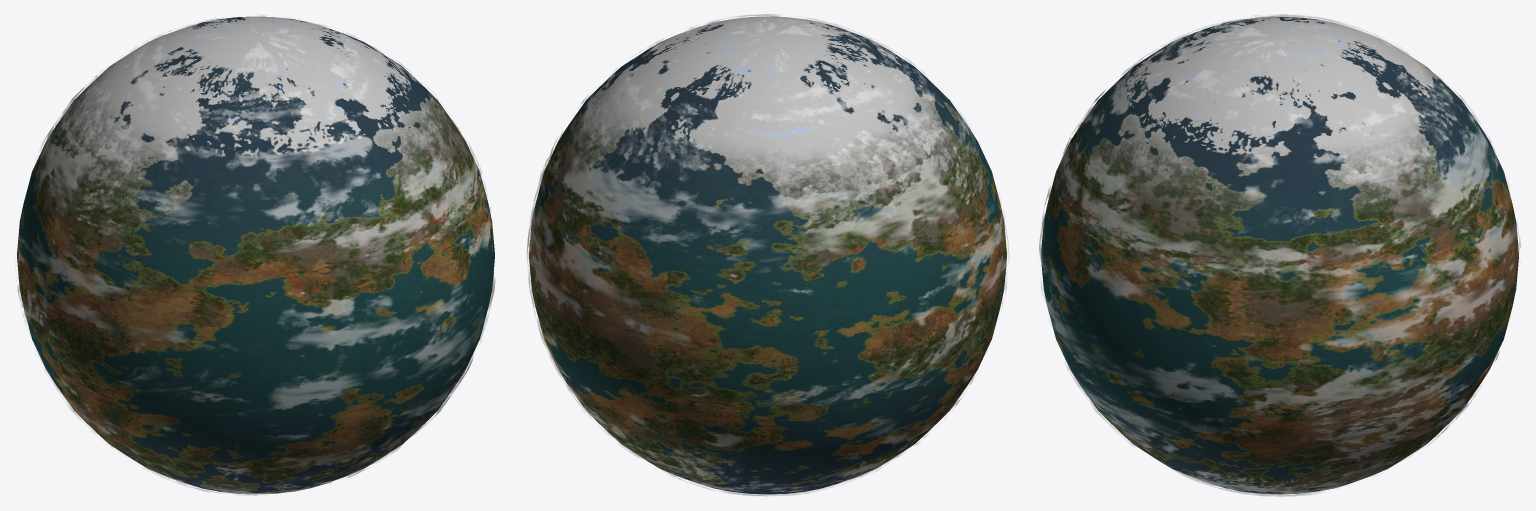
3 renders of one model, left to right at view 1: azimuth 30°, elevation 25°; view 2: azimuth 150°, elevation 25°; view 3: azimuth 270°, elevation 25°, orthographic.
Visible parts, largest first — view 1: Object_5; view 2: Object_5; view 3: Object_5.
Boxes of the visible parts, <box> form: Object_5: <box>15,14,495,495</box>; Object_5: <box>527,14,1009,496</box>; Object_5: <box>1039,14,1520,496</box>.
Size of the model in its own units: 2.02 by 2.02 by 2.02.
2 materials, 2 textured.
